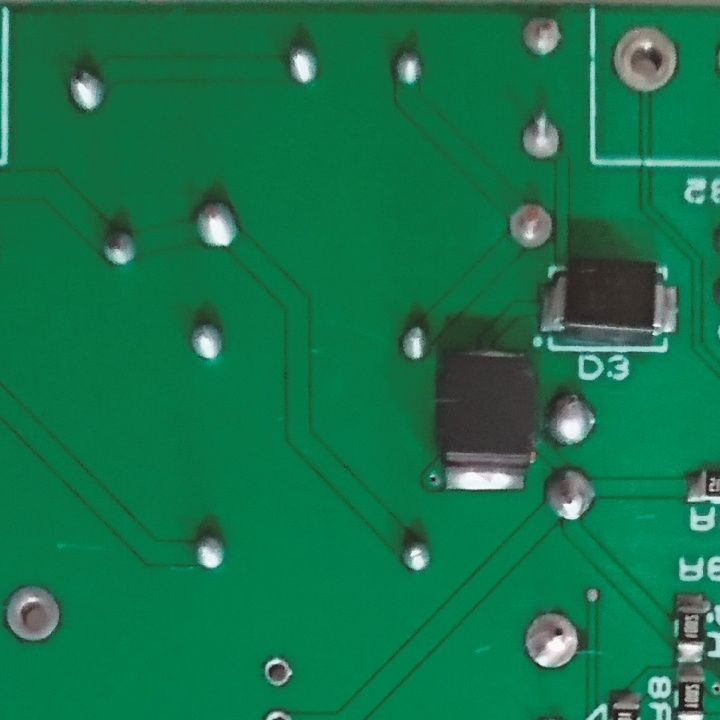F: (610, 23, 682, 97), (1, 580, 65, 646), (521, 609, 584, 672), (516, 109, 567, 169), (504, 197, 553, 253), (520, 9, 565, 65), (262, 653, 298, 689)
